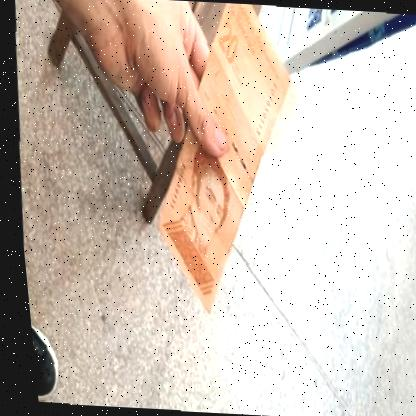twenty-front-vef: (130, 0, 310, 318)
